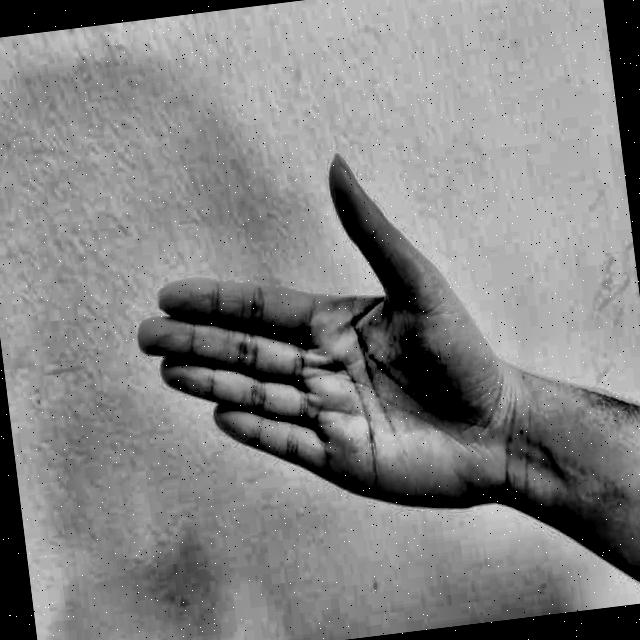Aa: (97, 114, 504, 565)
